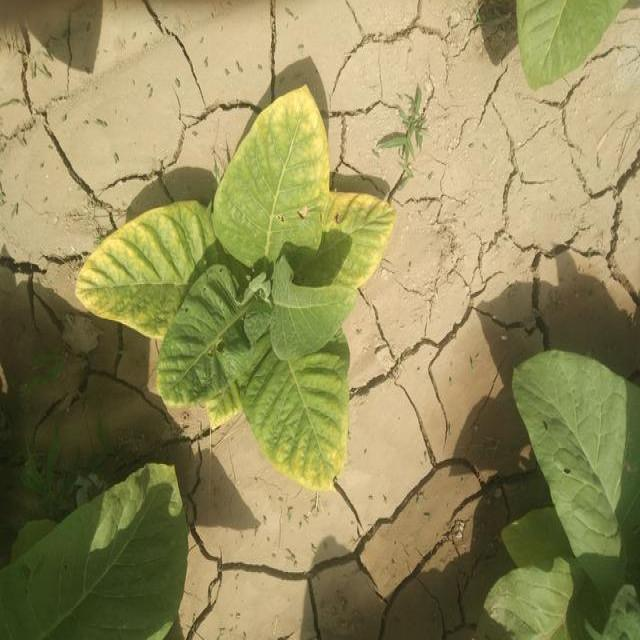crop: (84, 81, 396, 473), (501, 353, 639, 640), (0, 458, 182, 640), (511, 5, 618, 84)
